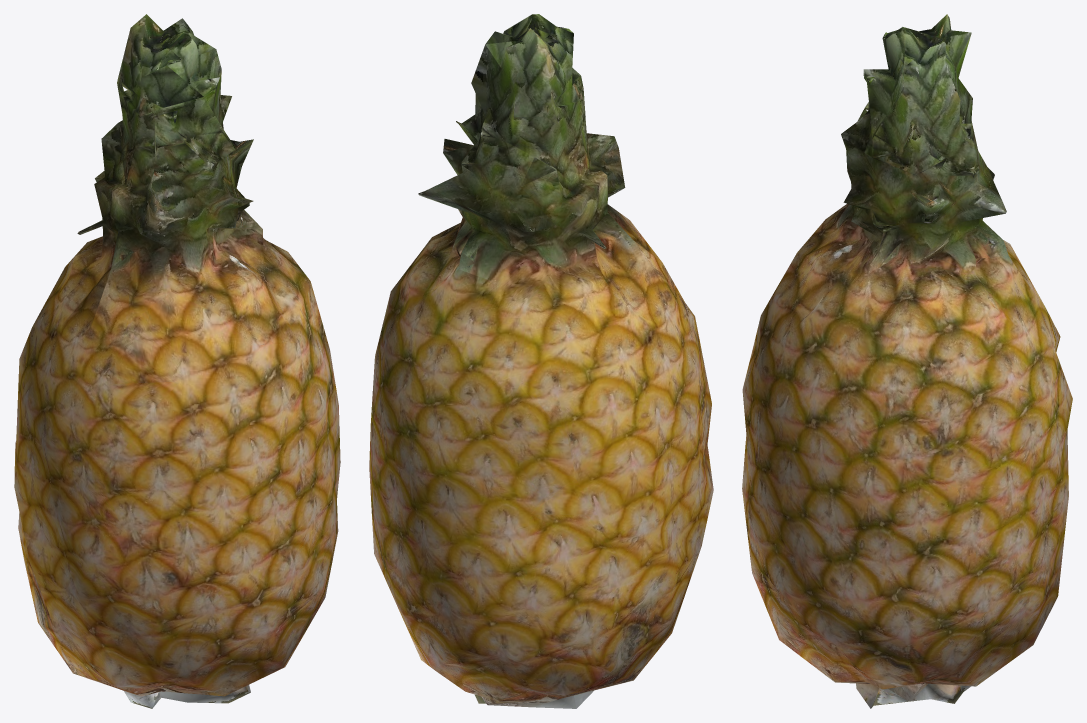
File: 36_pineapple_yellow.glb
3 views of the same model, side by side, from view 1: azimuth 30°, elevation 25°; view 2: azimuth 150°, elevation 25°; view 3: azimuth 270°, elevation 25° (orthographic). The views are drawn at different scales.
Visible parts, largest first — view 1: 36_pineapple; view 2: 36_pineapple; view 3: 36_pineapple.
Part boxes in pixels (<box>): 36_pineapple: <box>14,14,340,708</box>; 36_pineapple: <box>369,14,713,708</box>; 36_pineapple: <box>742,14,1072,708</box>.
Size of the model in its own units: 0.8291 by 1.84 by 0.8214.
1 material, 1 textured.
